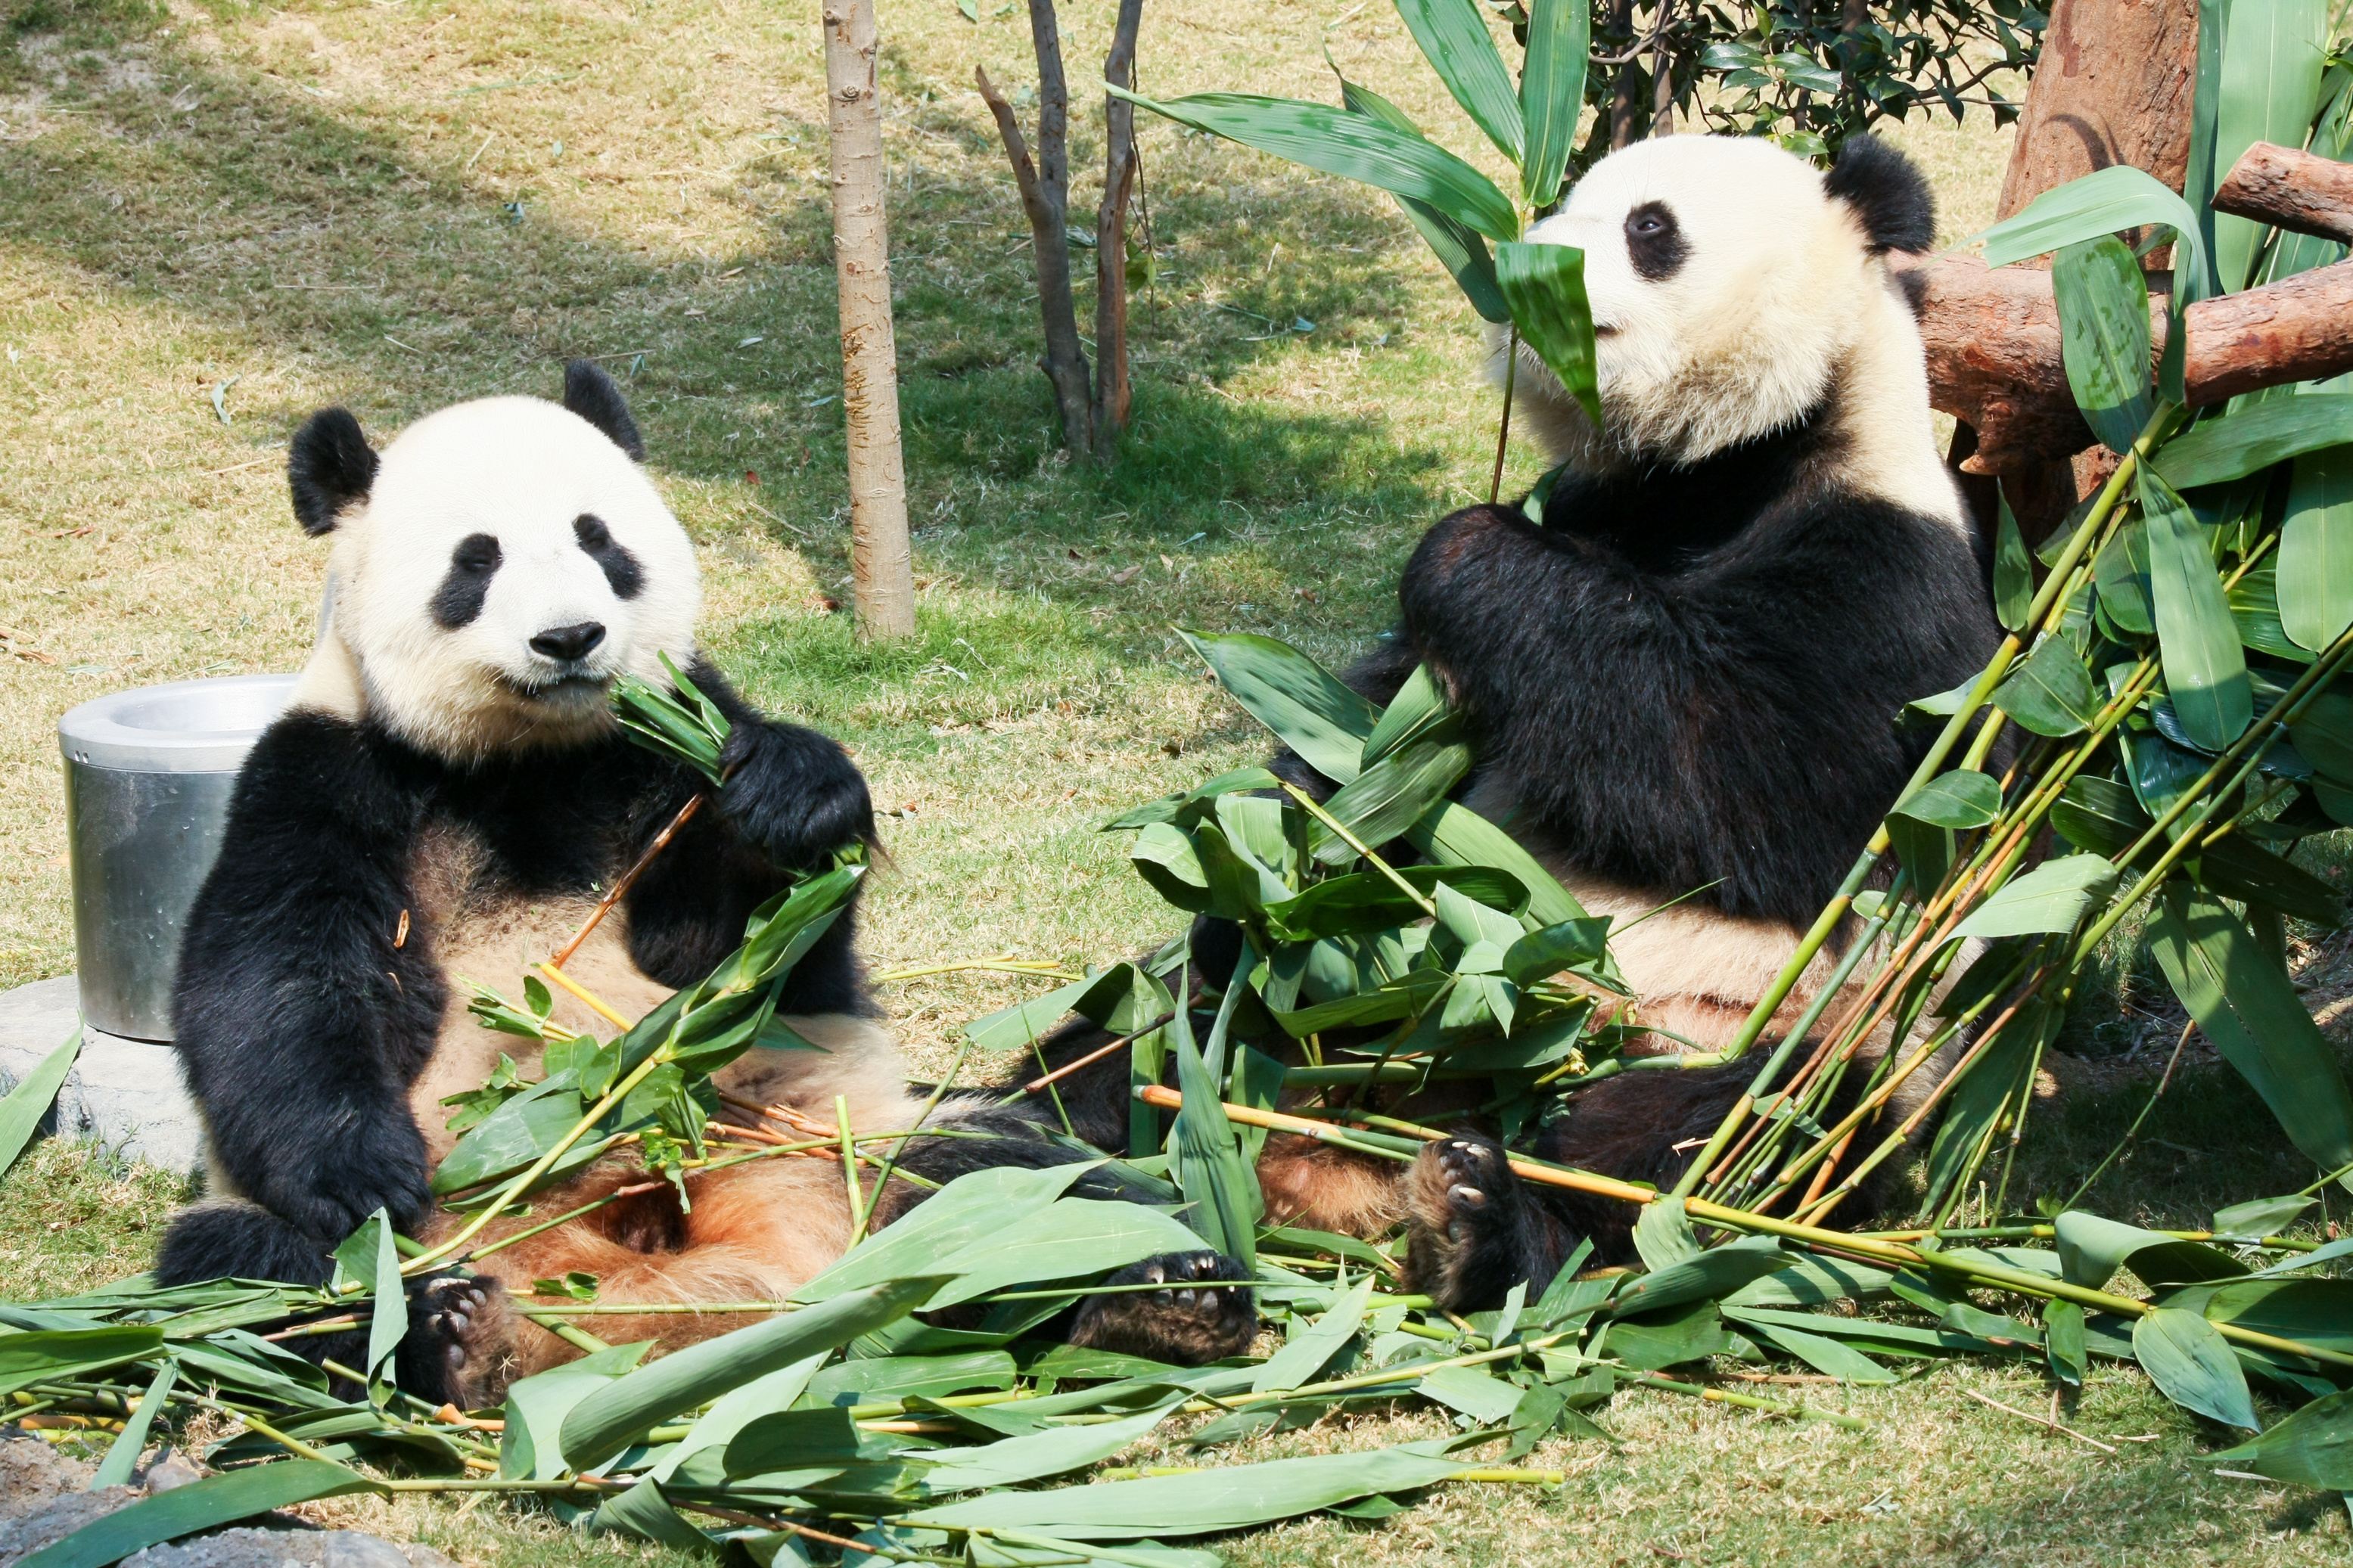panda: (1115, 82, 2069, 1334), (163, 354, 933, 1370)
